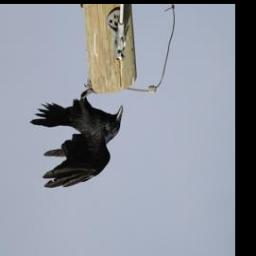Crow: (27, 81, 124, 191)
